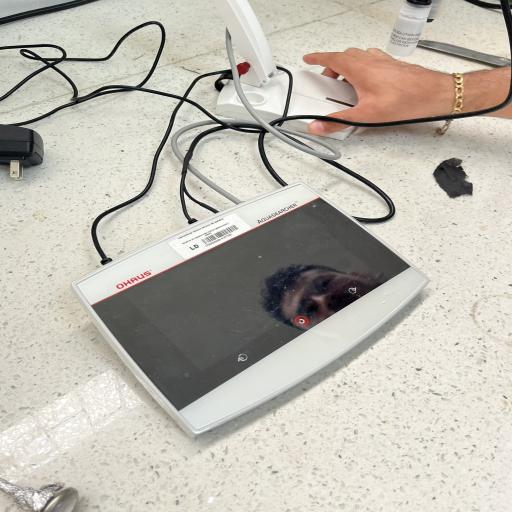Phmetro_Ohaus: (61, 174, 441, 443)
